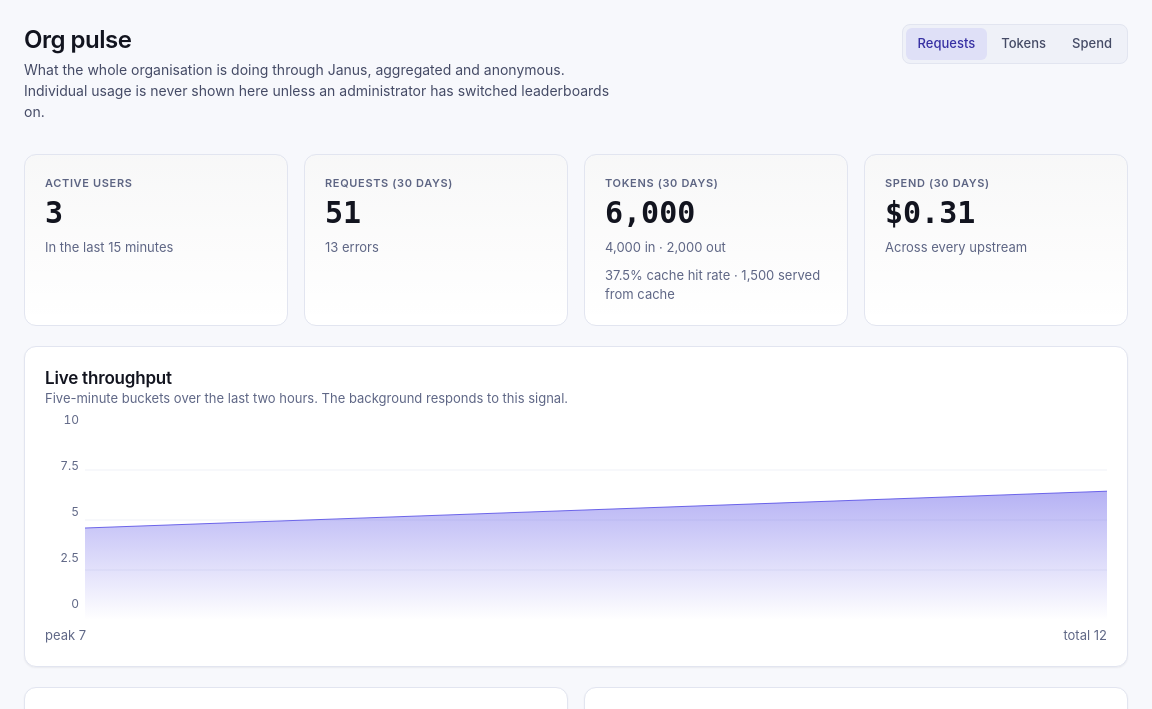
it: live throughput — tokens metric › switching the metric toggle to Tokens stacks the chart without a reload
Expected: the heading "Live throughput" is shown, [45, 368, 172, 388]
Click the button "Tokens": (1024, 44) [989, 28, 1058, 60]
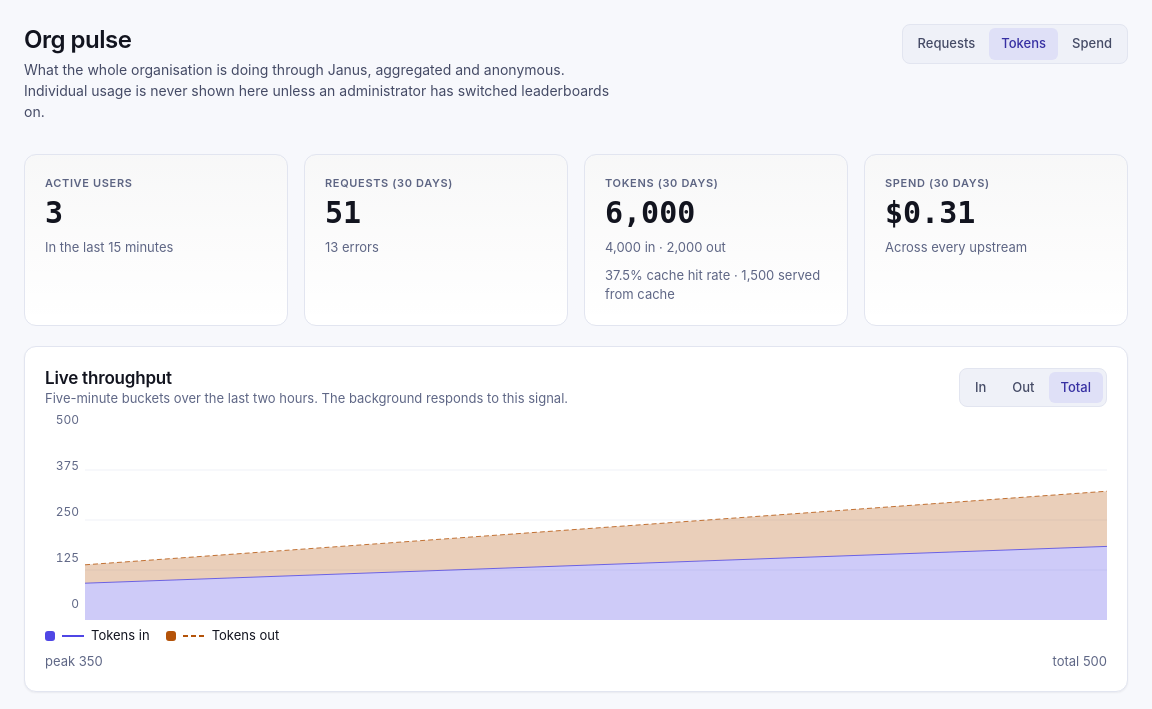
Expected: the text "Tokens in" is shown, [91, 626, 150, 646]
Expected: the text "Tokens out" is shown, [212, 626, 279, 646]
